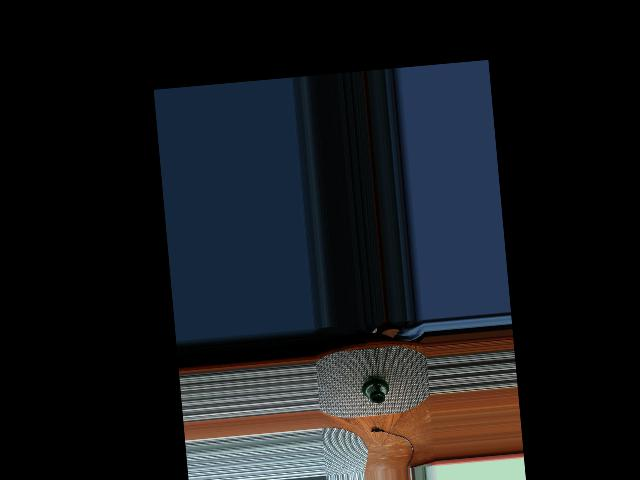beer: (361, 374, 388, 404)
